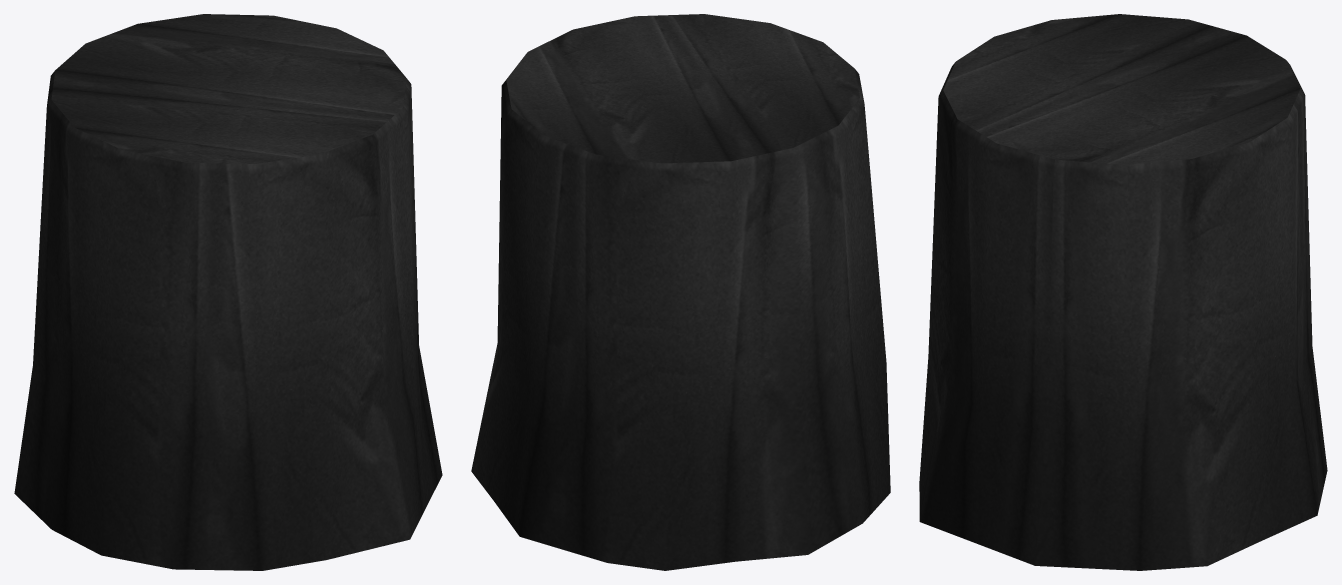
The model's file is sideTable.FBX.
3 views of the same model, side by side, from view 1: azimuth 30°, elevation 25°; view 2: azimuth 150°, elevation 25°; view 3: azimuth 270°, elevation 25° (orthographic).
Parts seen in each view (by area): view 1: sideTable; view 2: sideTable; view 3: sideTable.
Part boxes in pixels (bbox=[...]): sideTable: bbox=[14, 14, 442, 570]; sideTable: bbox=[471, 14, 890, 570]; sideTable: bbox=[919, 14, 1327, 570].
Size of the model in its own units: 103 by 108 by 102.
